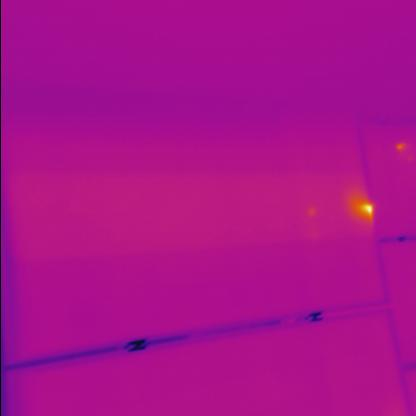hotspot: (356, 198, 376, 221)
